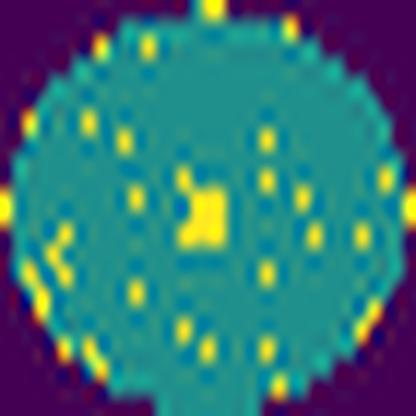Center: (178, 188, 228, 250)
